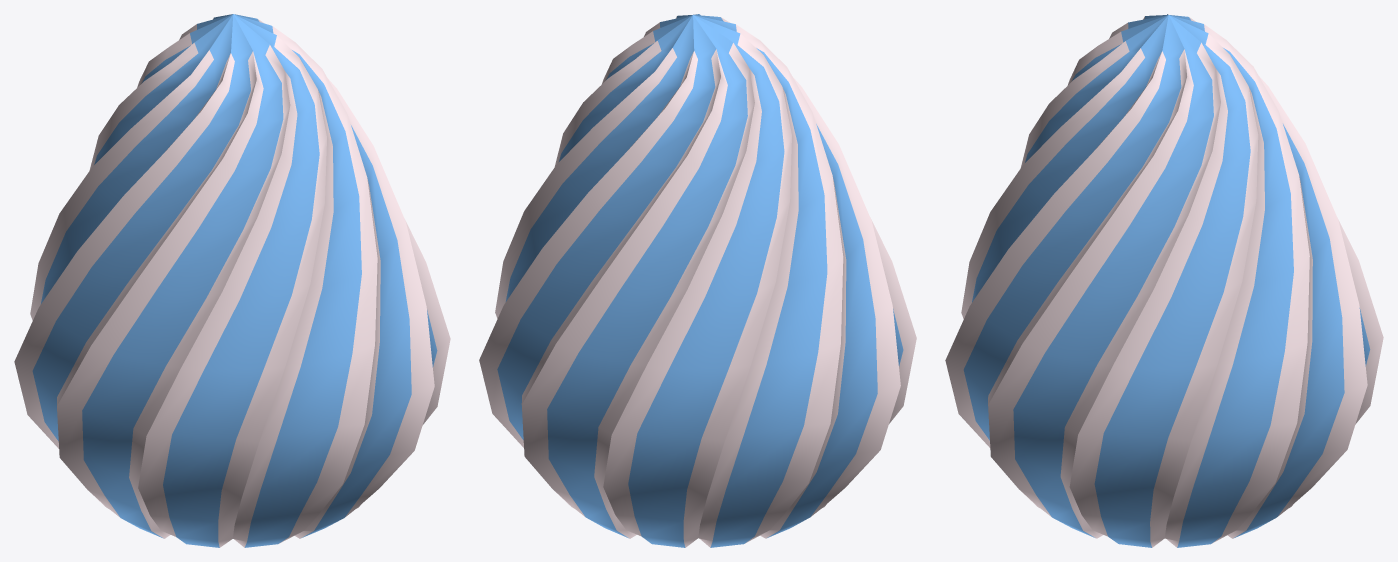
The model's file is Ice Cream Spiral A White Blue.fbx.
3 renders of one model, left to right at view 1: azimuth 30°, elevation 25°; view 2: azimuth 150°, elevation 25°; view 3: azimuth 270°, elevation 25°, orthographic.
Visible parts, largest first — view 1: Ice Cream Spiral A White Blue; view 2: Ice Cream Spiral A White Blue; view 3: Ice Cream Spiral A White Blue.
Boxes of the visible parts, <box> form: Ice Cream Spiral A White Blue: <box>14,14,450,547</box>; Ice Cream Spiral A White Blue: <box>479,14,916,547</box>; Ice Cream Spiral A White Blue: <box>945,14,1383,547</box>.
Bounding box in the file's own units: 0.4046 × 0.4954 × 0.4046.
